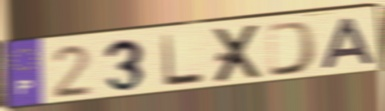2: (49, 43, 94, 101)
3: (103, 36, 153, 96)
A: (319, 15, 380, 72)
D: (265, 19, 321, 79)
L: (159, 32, 207, 89)
X: (212, 22, 266, 86)
